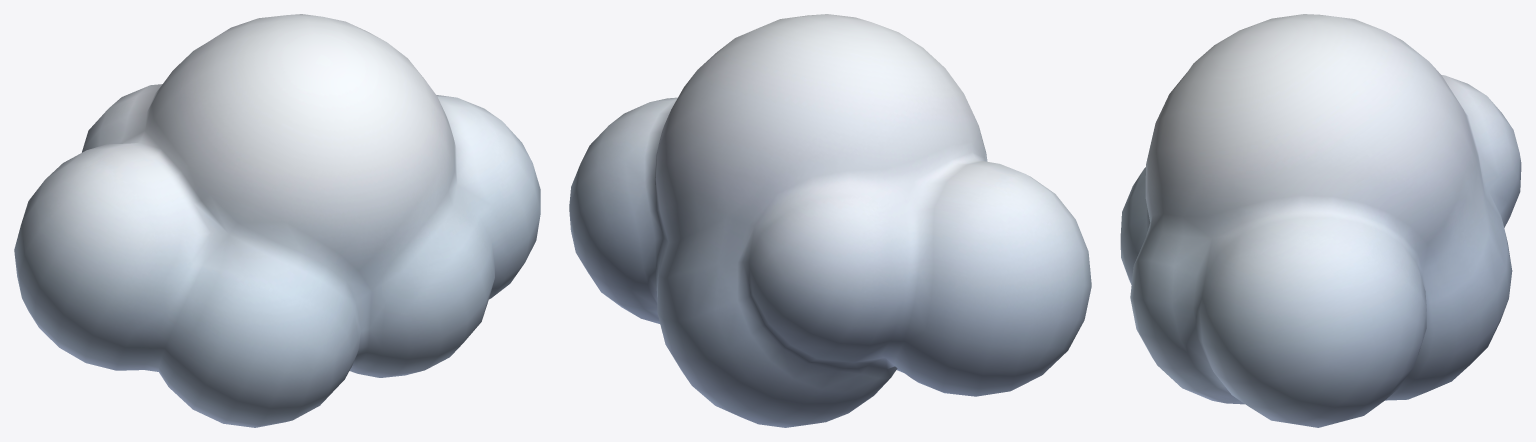
Rendered from cloud-2.glb.
3 renders of one model, left to right at view 1: azimuth 30°, elevation 25°; view 2: azimuth 150°, elevation 25°; view 3: azimuth 270°, elevation 25°, orthographic. The views are drawn at different scales.
Visible parts, largest first — view 1: Cloud2; view 2: Cloud2; view 3: Cloud2.
Part boxes in pixels (left/top/right/bottom): Cloud2: left=14, top=14, right=540, bottom=427; Cloud2: left=569, top=14, right=1091, bottom=427; Cloud2: left=1120, top=14, right=1521, bottom=427.
Size of the model in its own units: 7.71 by 5.3 by 5.35.
1 material, 1 textured.
